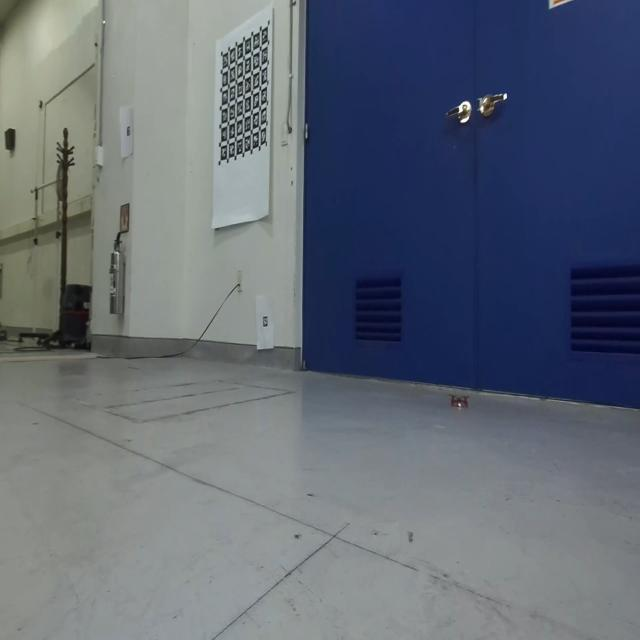crazyflie: (447, 388, 472, 414)
